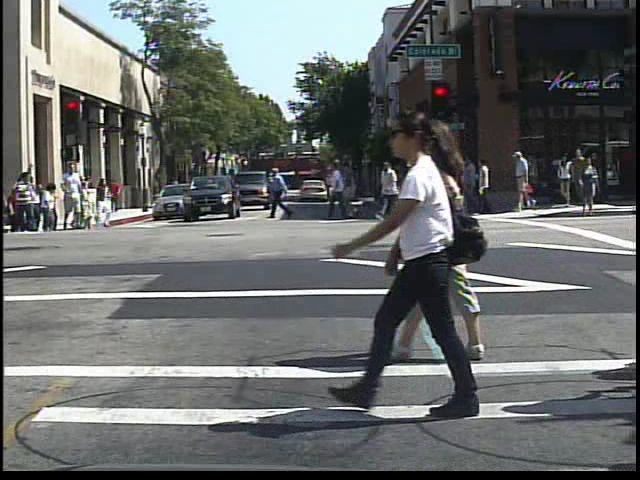person: (330, 109, 495, 421), (400, 117, 498, 361), (57, 161, 88, 232), (12, 165, 37, 235), (512, 145, 536, 212), (108, 177, 126, 214), (166, 172, 184, 205)
